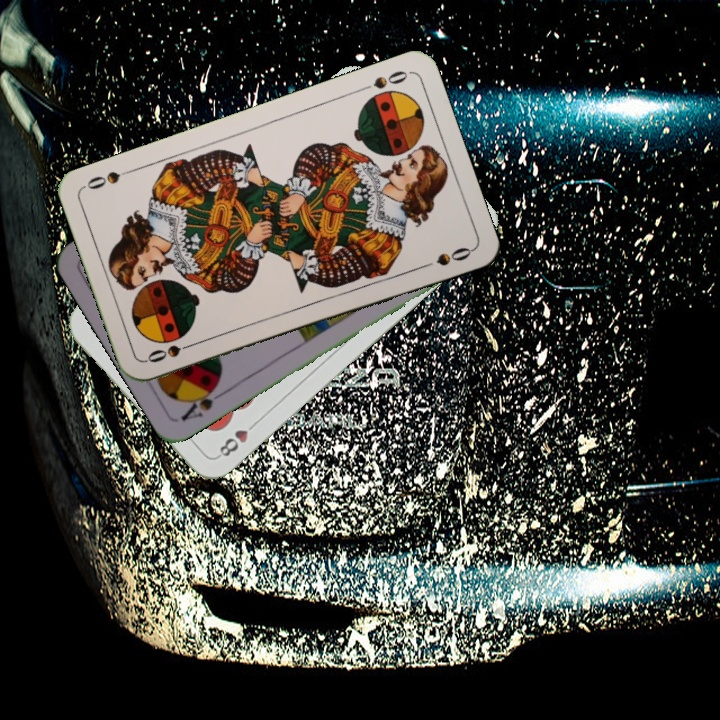H8: (213, 416, 261, 461)
SA: (176, 378, 230, 424)
SO: (355, 66, 411, 95), (143, 337, 200, 365)
